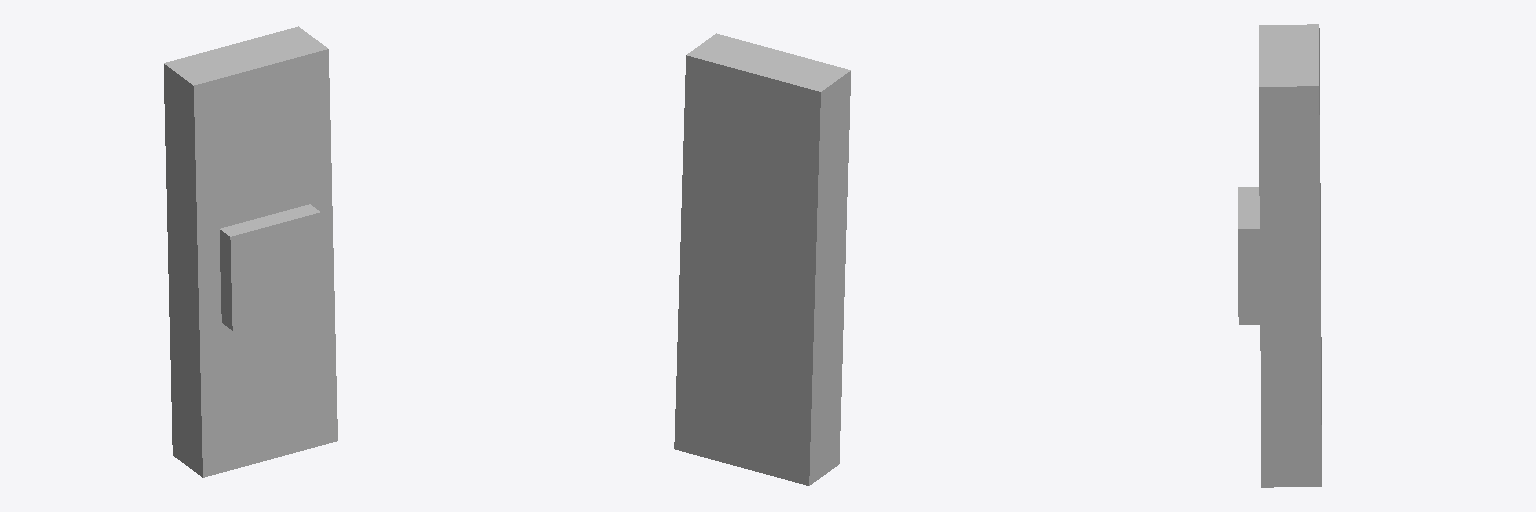
File: FM_doorbell.obj
The picture shows the model from 3 angles: view 1: azimuth 30°, elevation 25°; view 2: azimuth 150°, elevation 25°; view 3: azimuth 270°, elevation 25°; orthographic projection.
Visible parts, largest first — view 1: Cube.003, Cube.002; view 2: Cube.003; view 3: Cube.003, Cube.002.
Part boxes in pixels (x1,y1,x2,y2): Cube.003: (164,26,337,477); Cube.002: (220,204,322,330); Cube.003: (674,33,850,485); Cube.003: (1259,24,1321,487); Cube.002: (1238,187,1259,324).
Size of the model in its own units: 0.187 by 0.4912 by 0.0936.